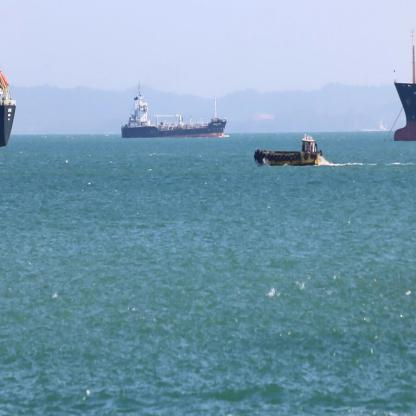Container Ship: (121, 80, 227, 140), (394, 29, 416, 142), (0, 68, 16, 148)
